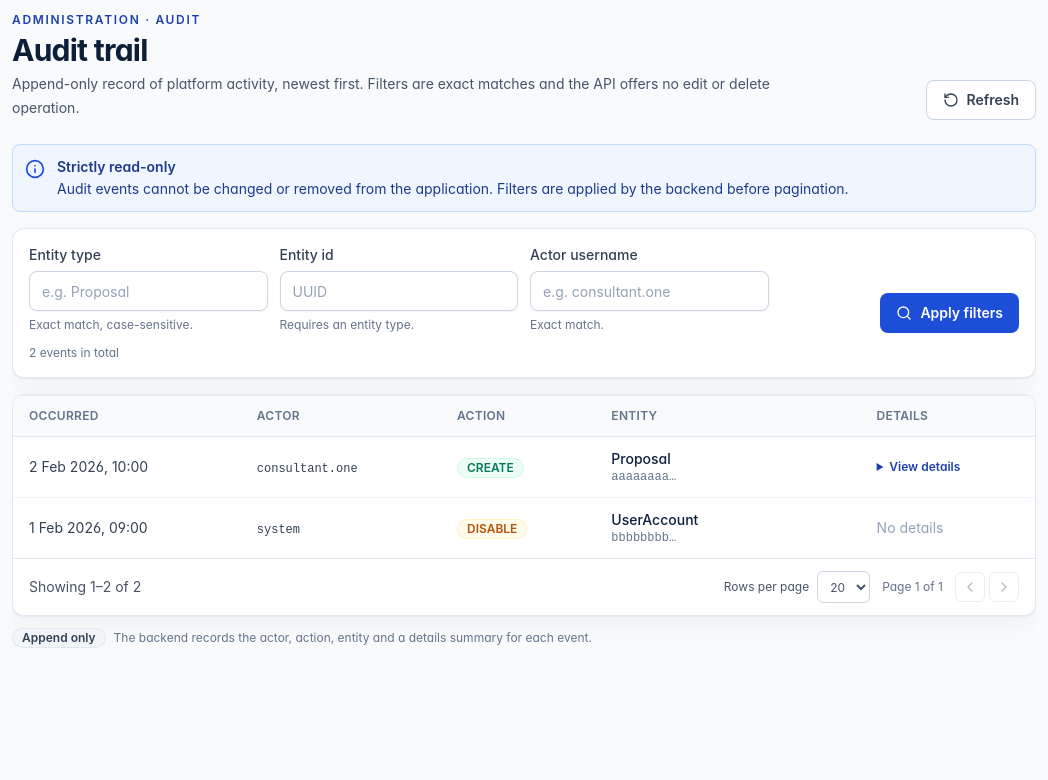
Test case: AuditTrailPage › requires an entity type before filtering by entity id
Later steps or results of the test are not shown.
Expected: the text "consultant.one" is shown, [257, 462, 358, 476]
Type "aaaaaaaa-aaaa-aaaa-aaaa-aaaaaaaaaaaa" into the field labelled "Entity id" at (399, 291), box [280, 271, 518, 311]
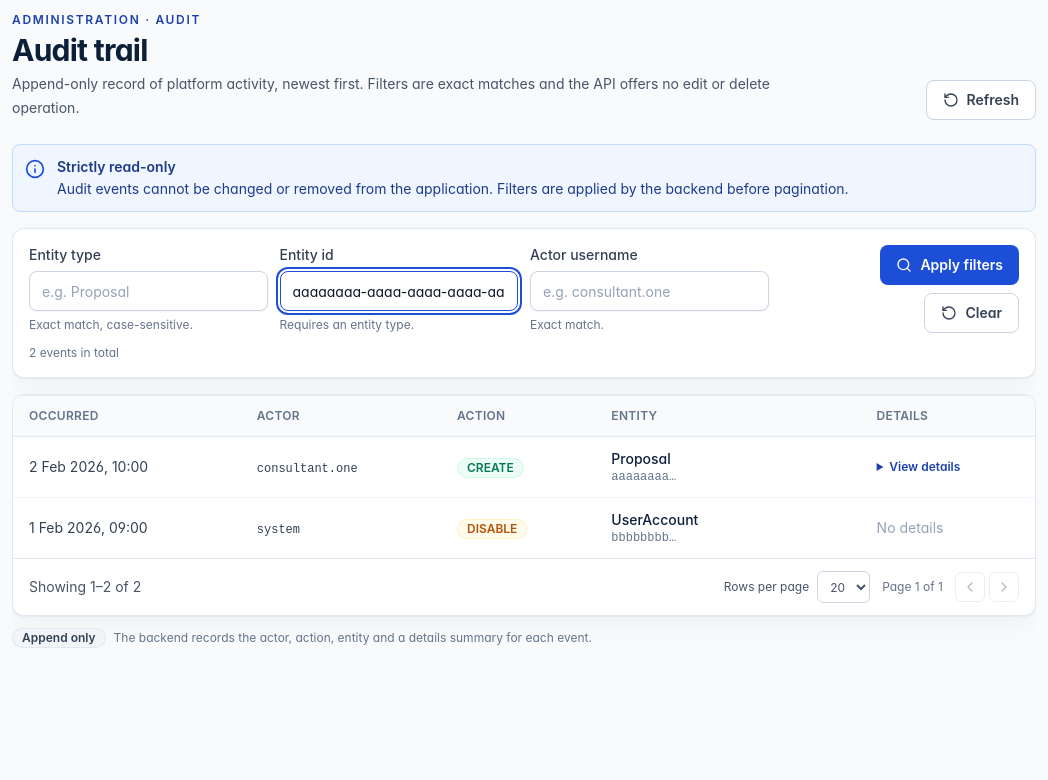
Click the button "Apply filters" at (950, 265), box [880, 245, 1019, 285]
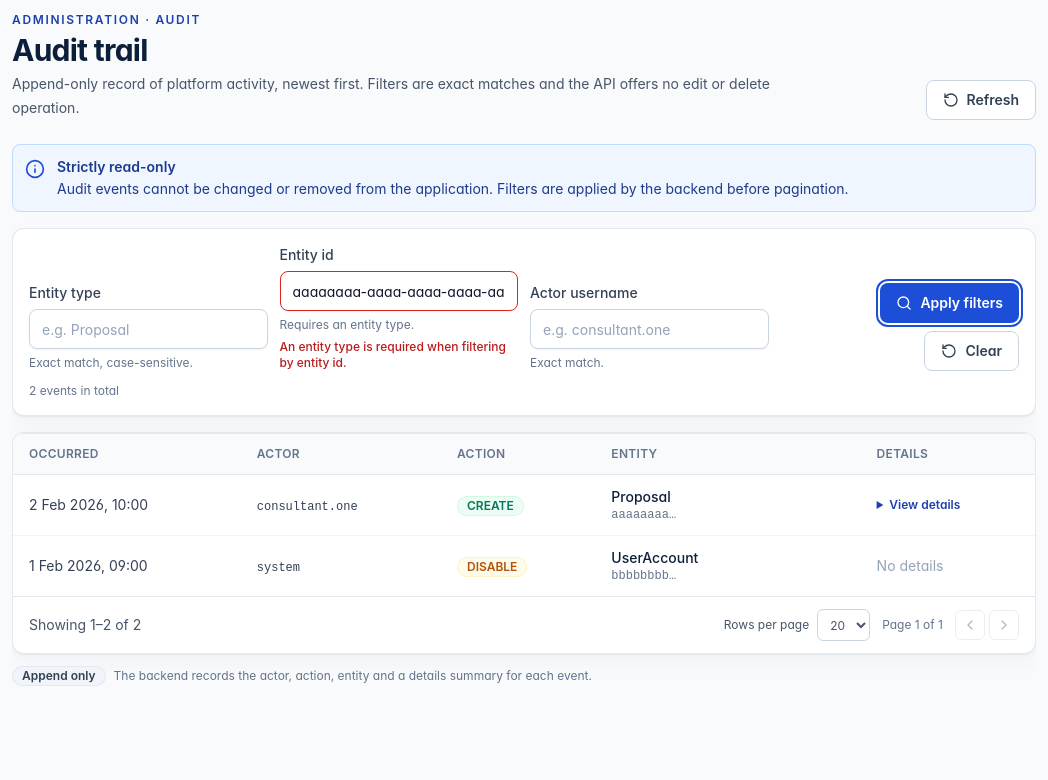
Expected: the text "An entity type is required when filtering by entity id." is shown, [280, 339, 518, 371]
